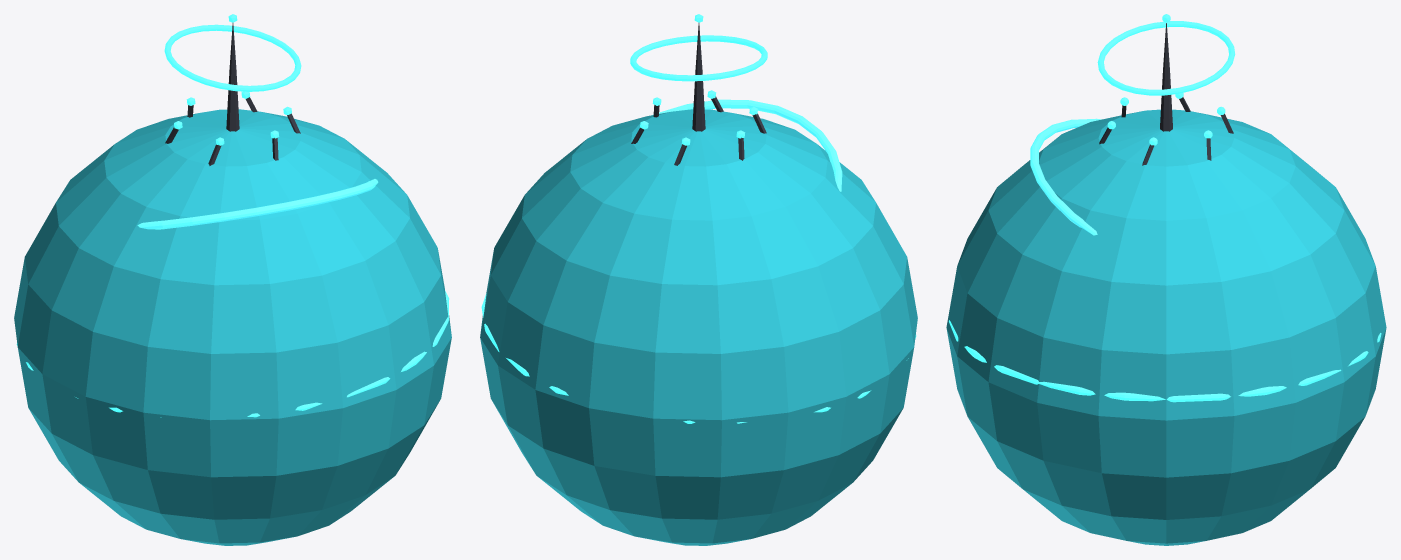
Rendered from axis.glb.
3 renders of one model, left to right at view 1: azimuth 30°, elevation 25°; view 2: azimuth 150°, elevation 25°; view 3: azimuth 270°, elevation 25°, orthographic.
Visible parts, largest first — view 1: Dome_Glass, Axis_Rings, Axis_Core, Axis_Struts; view 2: Dome_Glass, Axis_Rings, Axis_Core, Axis_Struts; view 3: Dome_Glass, Axis_Rings, Axis_Core, Axis_Struts.
Part boxes in pixels (x1,y1,x2,y2): Dome_Glass: (14, 109, 451, 545); Axis_Rings: (16, 24, 449, 417); Axis_Core: (226, 23, 239, 131); Axis_Struts: (165, 97, 300, 165); Dome_Glass: (480, 109, 917, 545); Axis_Rings: (481, 35, 916, 423); Axis_Core: (692, 23, 705, 131); Axis_Struts: (631, 96, 766, 165); Dome_Glass: (946, 109, 1386, 545); Axis_Rings: (949, 21, 1381, 402); Axis_Core: (1160, 23, 1172, 131); Axis_Struts: (1099, 97, 1233, 165).
Size of the model in its own units: 3.13 by 4.03 by 3.13.
